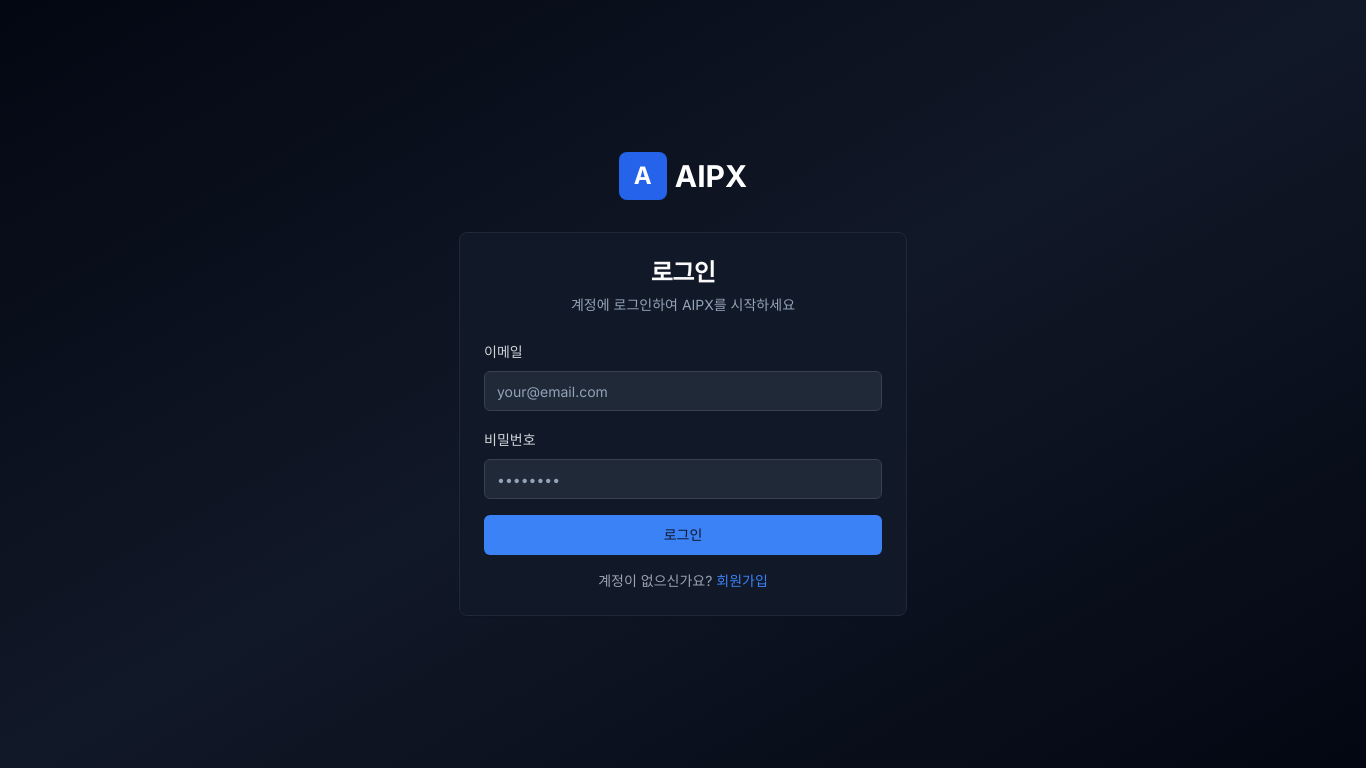
Test: LoginPage › displays default error message when no message provided
The width and height of the screenshot is (1366, 768).
Type "test@example.com" into the field named "이메일 주소".
click(683, 391); type("test@example.com")  # box [484,371,882,411]
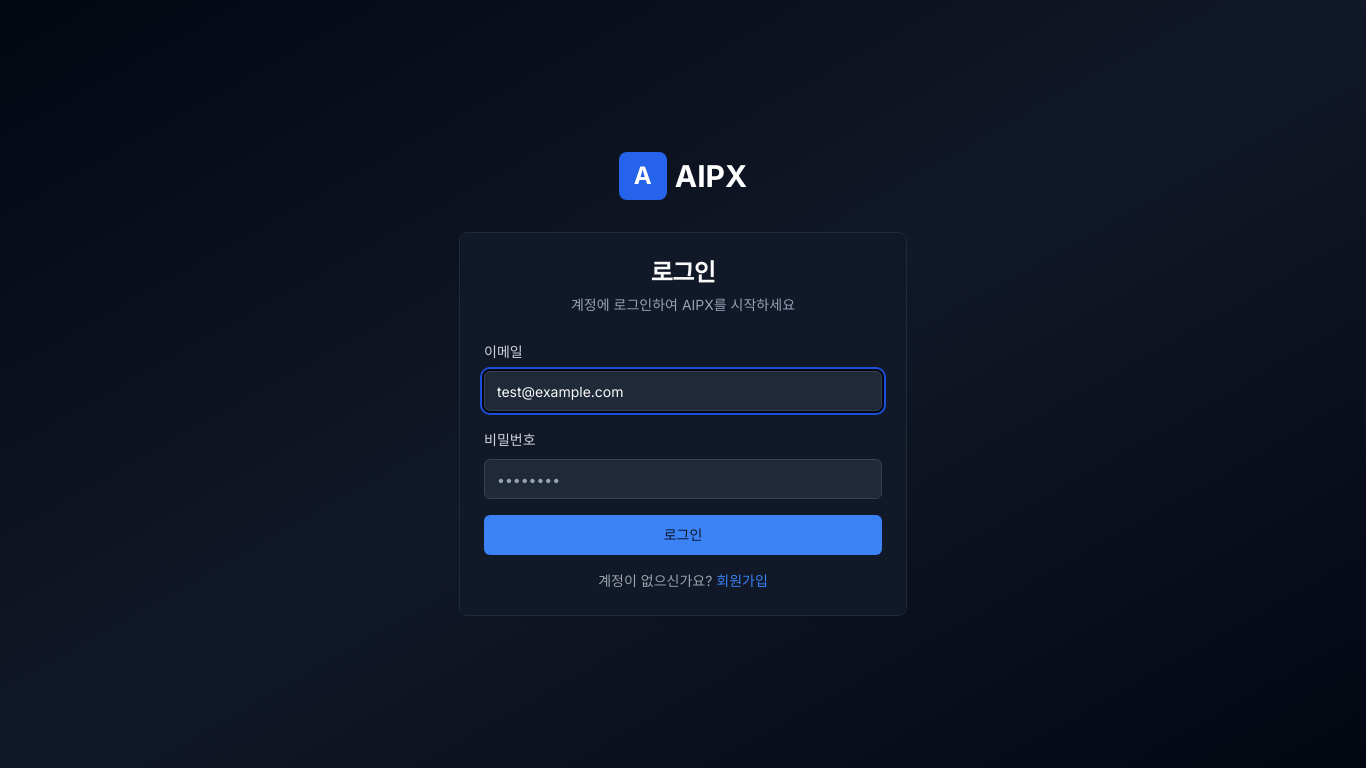
Type "password123" into the password field labelled "비밀번호".
click(683, 479); type("password123")  # box [484,459,882,499]
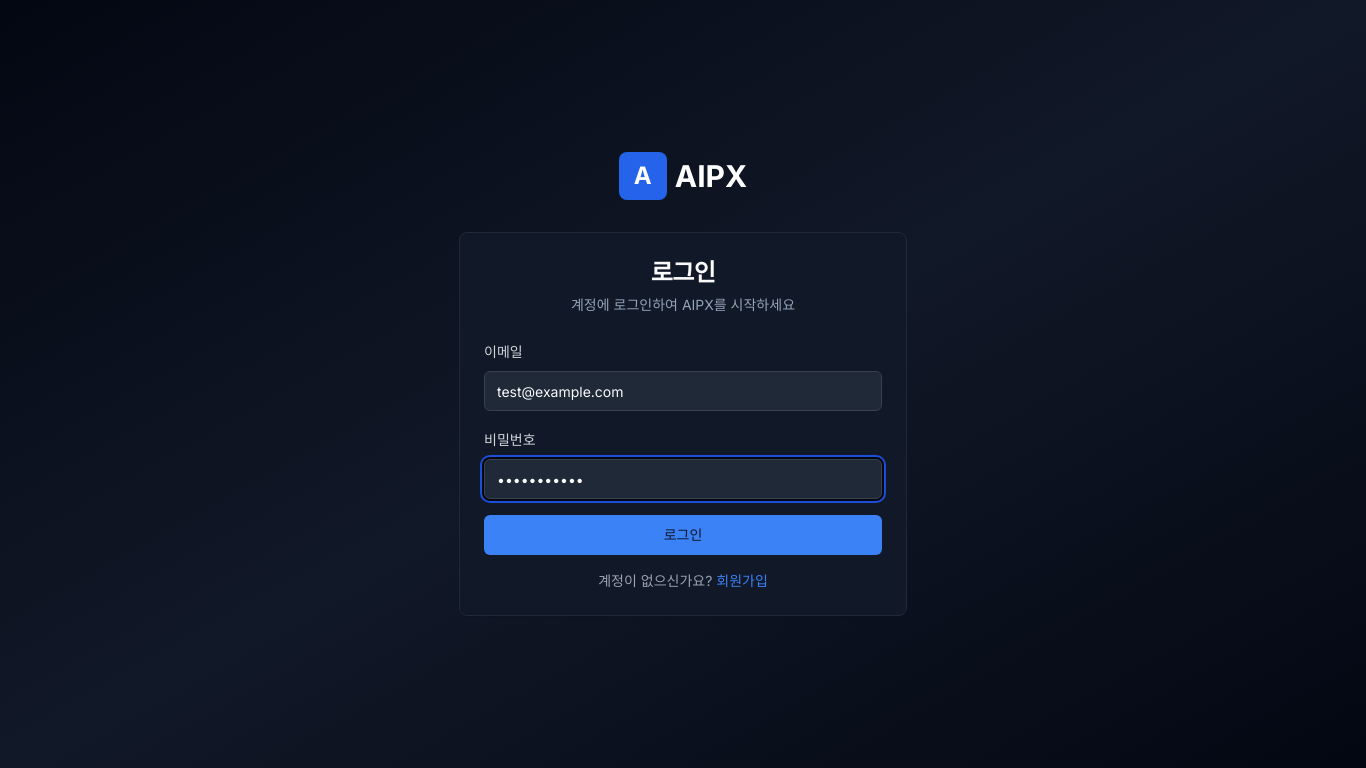
Click the button "로그인".
click(683, 535)  # box [484,515,882,555]
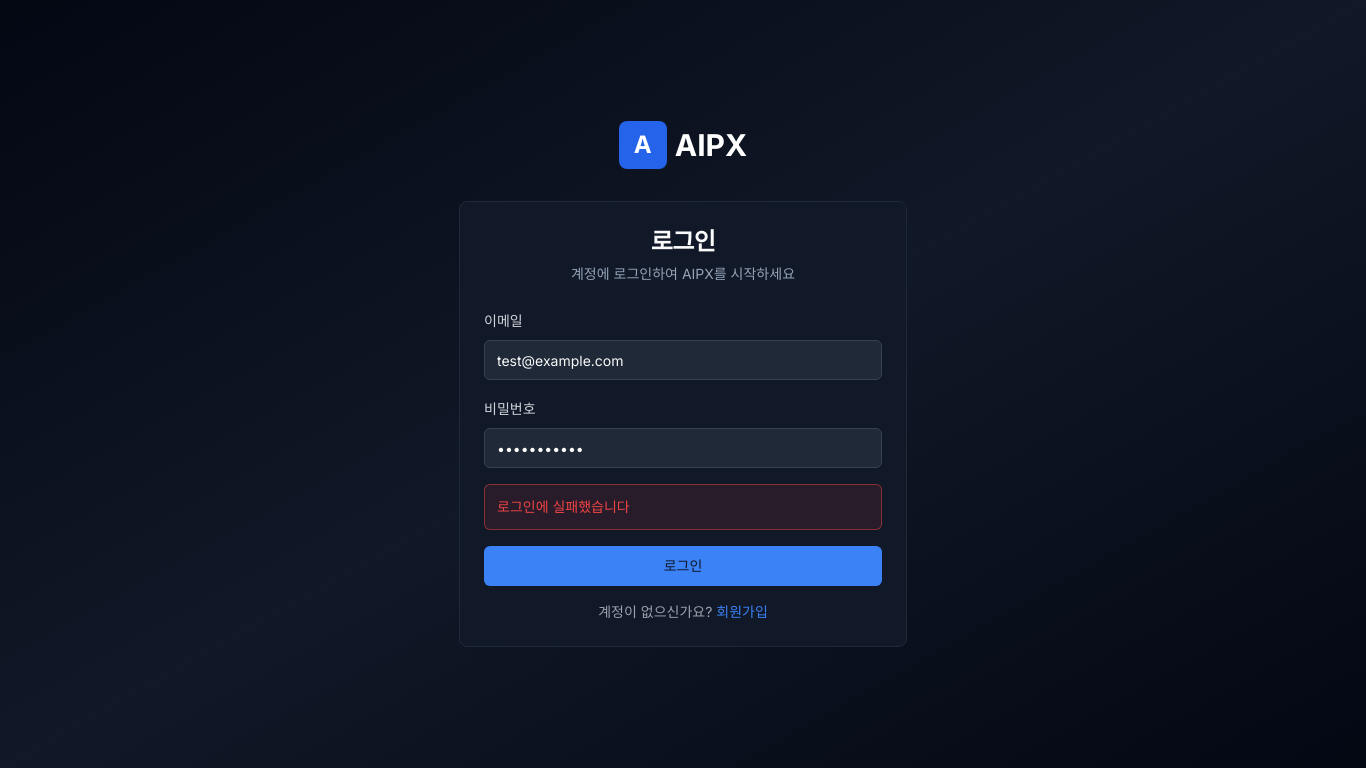
Result: the message reads "로그인에 실패했습니다" at [497,498,630,515]
